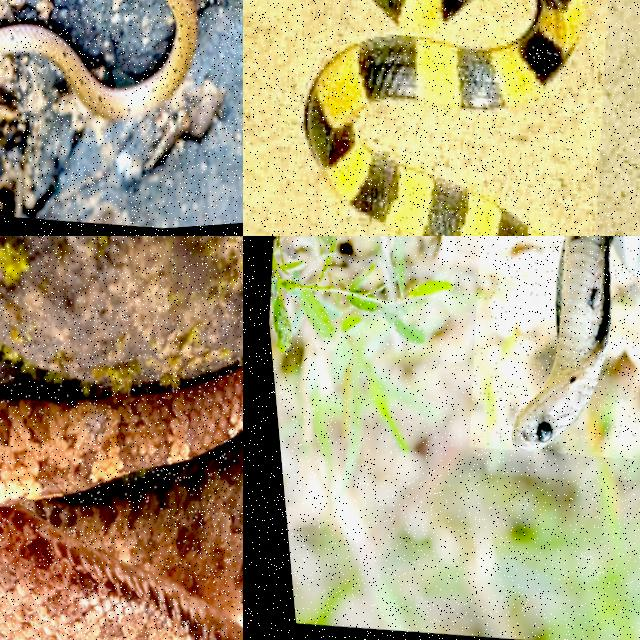Bungarus fasciatus: (304, 0, 584, 235)
Calliophis maculiceps: (0, 0, 198, 119)
Naja siamensis: (516, 236, 639, 450)
Ovophis monticola: (0, 367, 242, 639)
snake: (0, 367, 242, 639), (304, 0, 584, 235), (516, 236, 639, 450), (0, 0, 198, 119)
